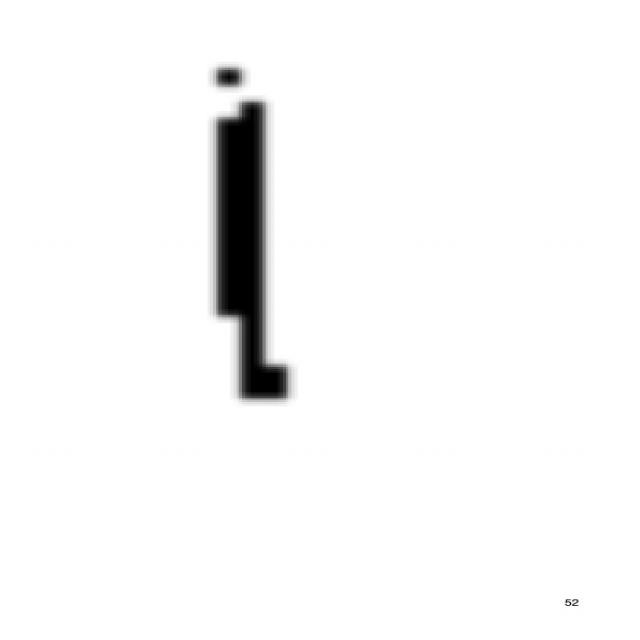1 -one-: (177, 44, 306, 419)
